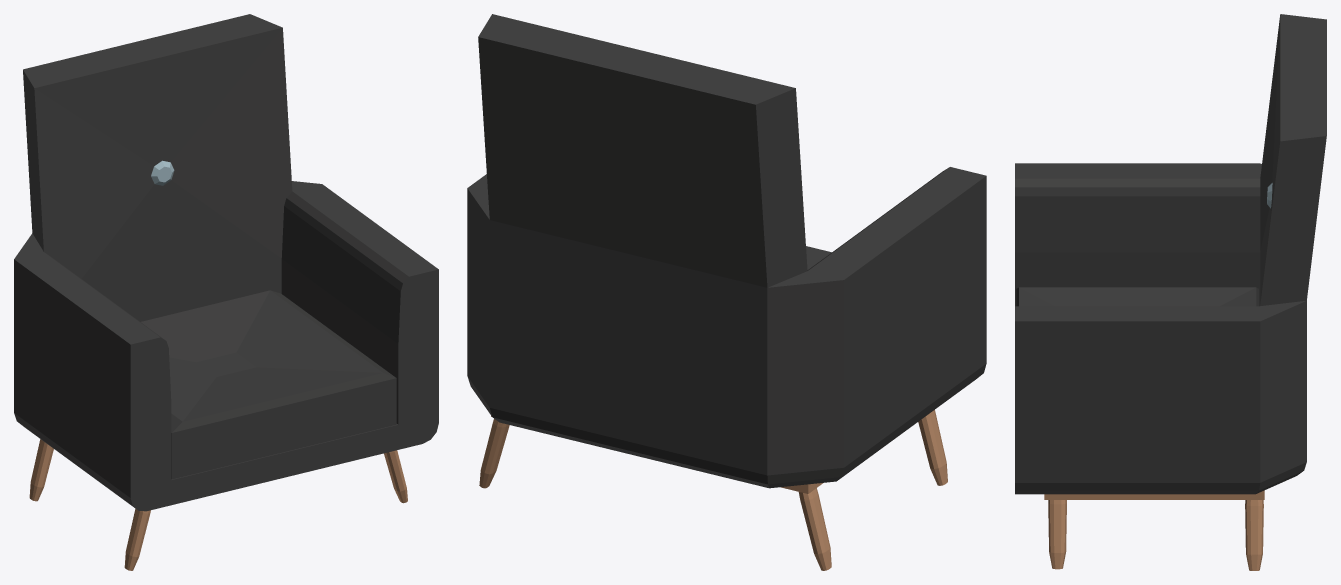
Rendered from Armchair.fbx.
The picture shows the model from 3 angles, left to right: view 1: azimuth 30°, elevation 25°; view 2: azimuth 150°, elevation 25°; view 3: azimuth 270°, elevation 25°; orthographic projection. The views are drawn at different scales.
Parts seen in each view (by area): view 1: Armchair; view 2: Armchair; view 3: Armchair.
Boxes of the visible parts, bbox=[...] form: Armchair: bbox=[14, 14, 438, 570]; Armchair: bbox=[467, 14, 986, 570]; Armchair: bbox=[1015, 14, 1326, 570].
Bounding box in the file's own units: 82.17 × 102 × 68.49.
